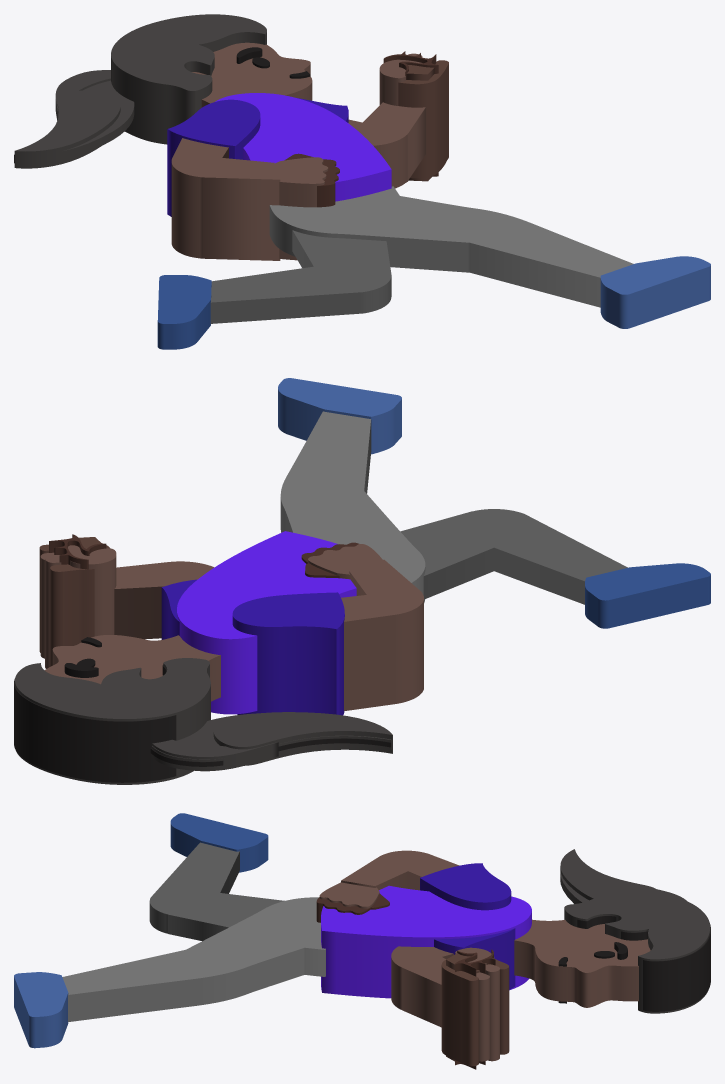
File: emoji_u1f3c3_1f3ff_200d_2640_200d_27a1.glb
3 renders of one model, top to bottom at view 1: azimuth 30°, elevation 25°; view 2: azimuth 150°, elevation 25°; view 3: azimuth 270°, elevation 25°, orthographic. The views are drawn at different scales.
Parts seen in each view (by area): view 1: emoji_u1f3c3_1f3ff_200d_2640_200d_27a1; view 2: emoji_u1f3c3_1f3ff_200d_2640_200d_27a1; view 3: emoji_u1f3c3_1f3ff_200d_2640_200d_27a1.
Part boxes in pixels (bbox=[...]): emoji_u1f3c3_1f3ff_200d_2640_200d_27a1: bbox=[14, 14, 710, 349]; emoji_u1f3c3_1f3ff_200d_2640_200d_27a1: bbox=[14, 378, 710, 784]; emoji_u1f3c3_1f3ff_200d_2640_200d_27a1: bbox=[14, 813, 710, 1069].
Bounding box in the file's own units: 0.023 × 0.0052 × 0.0326.
